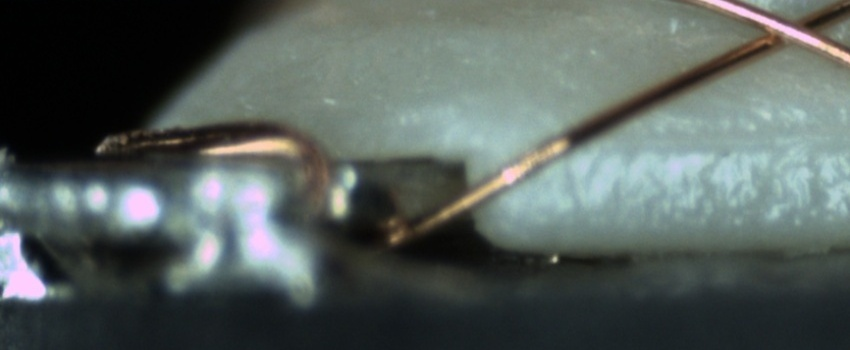CL: (737, 1, 842, 57)
DL: (559, 110, 849, 174)
TE: (97, 113, 339, 219)
